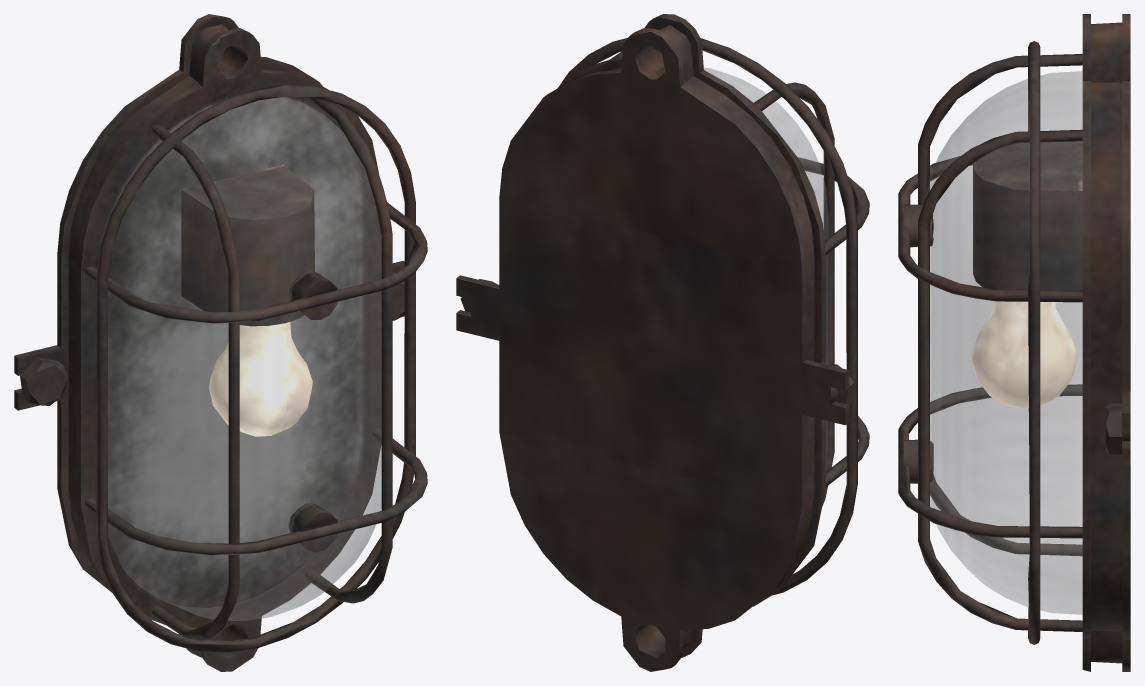
File: industrial_wall_lamp.glb
The picture shows the model from 3 angles, left to right: view 1: azimuth 30°, elevation 25°; view 2: azimuth 150°, elevation 25°; view 3: azimuth 270°, elevation 25°; orthographic projection.
Visible parts, largest first — view 1: industrial_wall_lamp; view 2: industrial_wall_lamp; view 3: industrial_wall_lamp.
Part boxes in pixels (x1=…): industrial_wall_lamp: x1=14, y1=14, x2=427, y2=671; industrial_wall_lamp: x1=456, y1=14, x2=869, y2=671; industrial_wall_lamp: x1=898, y1=14, x2=1130, y2=671.
Size of the model in its own units: 0.2735 by 0.4299 by 0.139.
2 materials, 2 textured.
